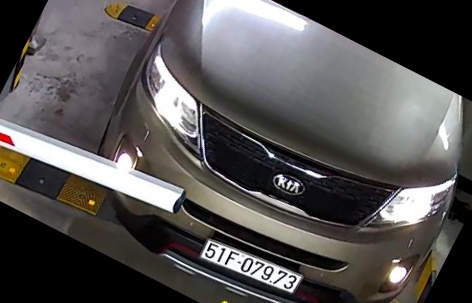plate: (200, 233, 314, 300)
